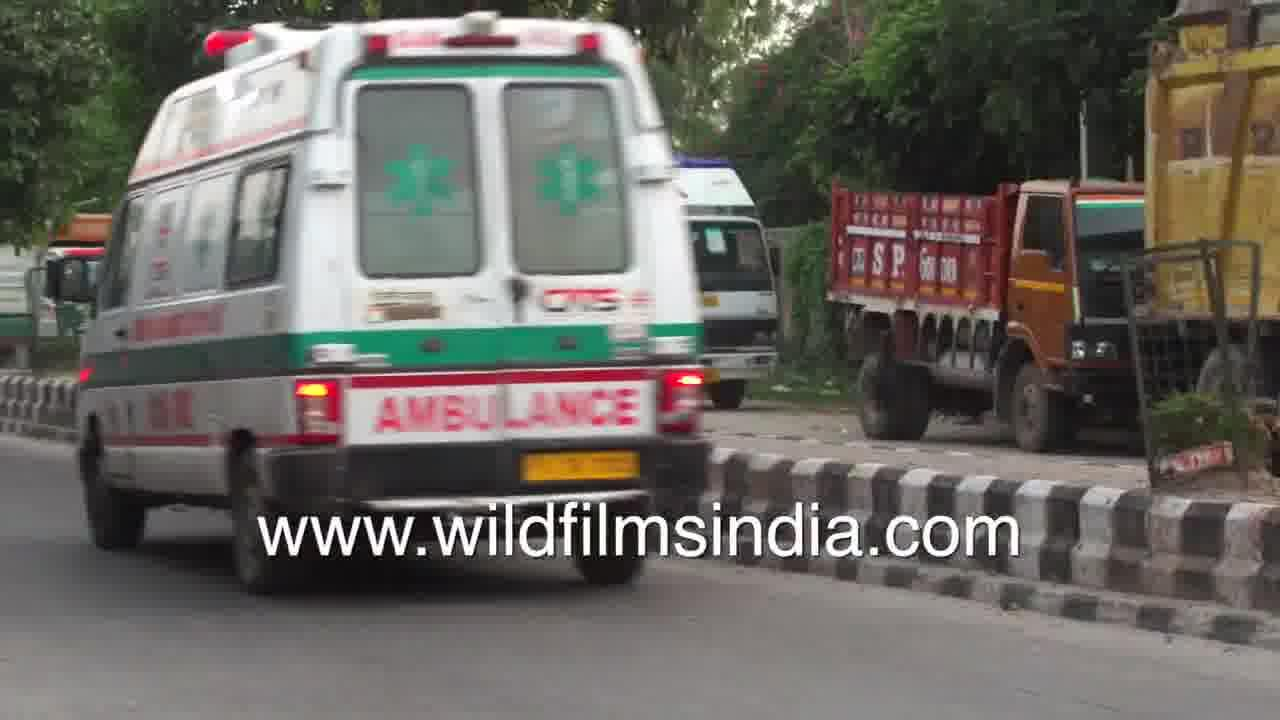AMBULANCE: (42, 21, 760, 593), (342, 356, 717, 495)
